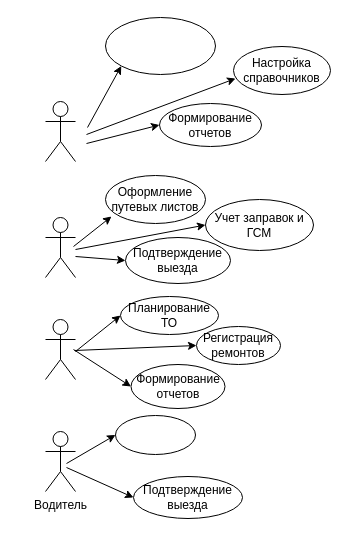
Image size: 348x536. Some labels were removed from this diagram. The shapes that lost their labels are listed below. From the top down, each one's centre as x and y in pixels, then its label:
[160,45]: Управление пользователями
[60,131]: Администратор
[60,247]: Диспетчер
[60,349]: Механик
[155,434]: Просмотр рейсов
